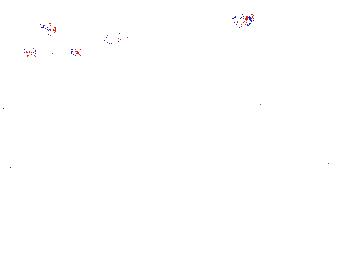X-ray fish: (298, 157, 346, 200), (108, 23, 127, 52)
red belly glassfish: (232, 8, 257, 29), (38, 19, 59, 36), (93, 34, 116, 47)
redtail glassfish: (12, 41, 83, 63)
